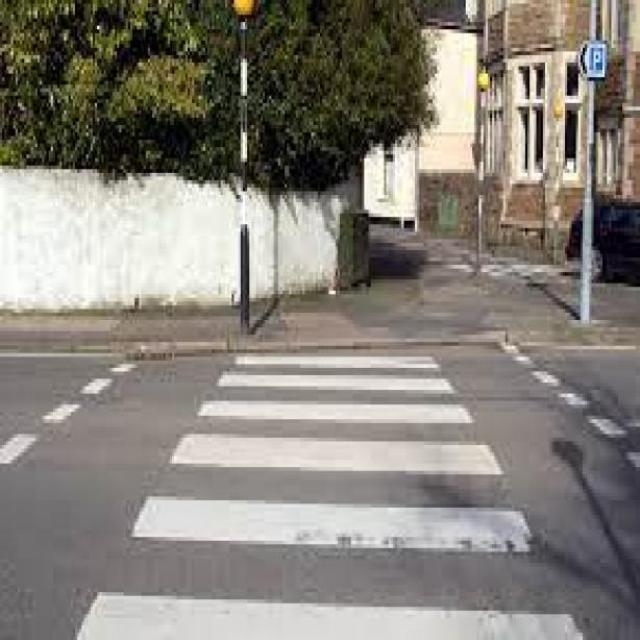pedestrian lane: (77, 352, 584, 640)
